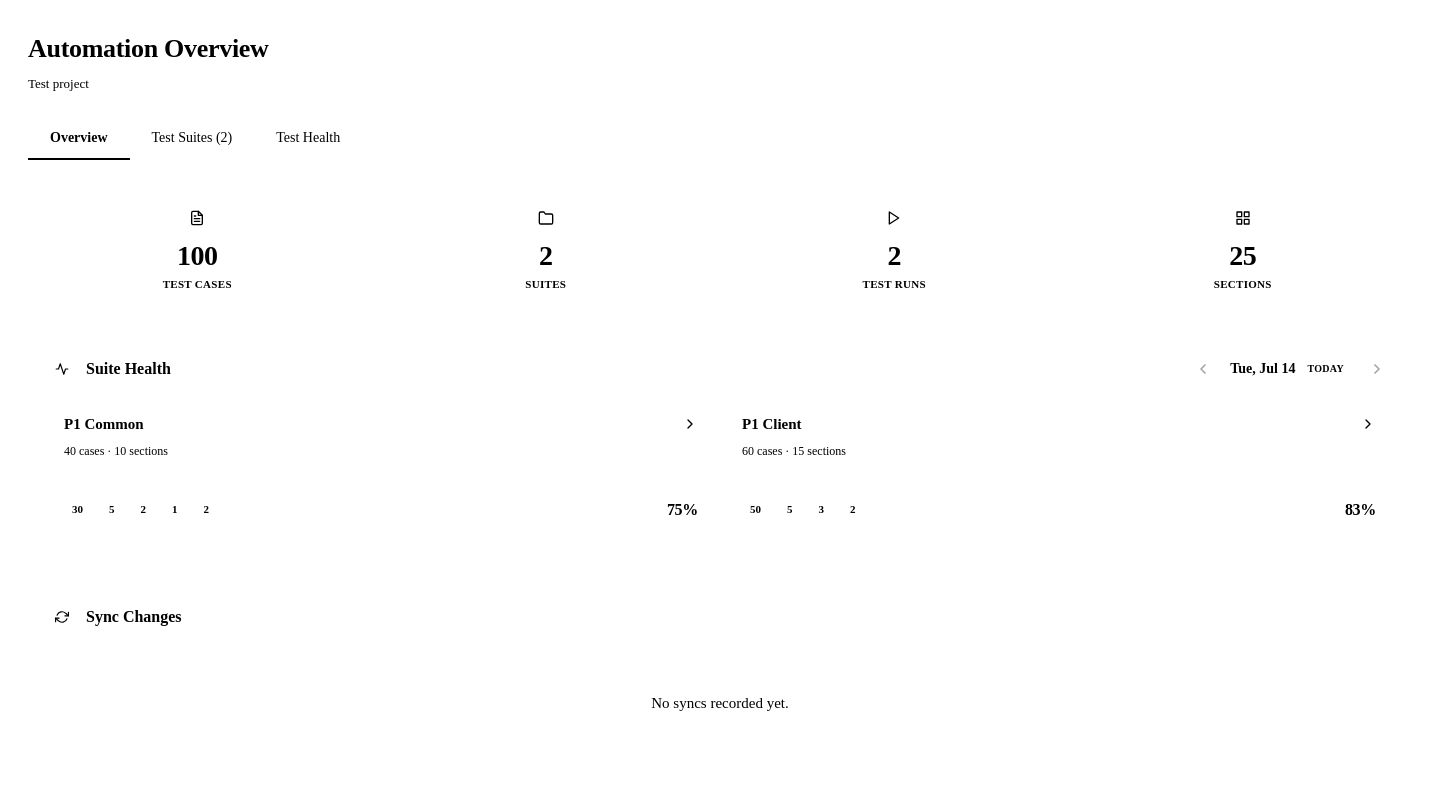
Test: ProjectDetailPage › Suites tab › shows section and case counts per suite
expect the text "Test project" is shown: met, box [28,76,89,91]
Click the tab "Test Suites (2)".
click(192, 139)  # box [130,118,254,160]
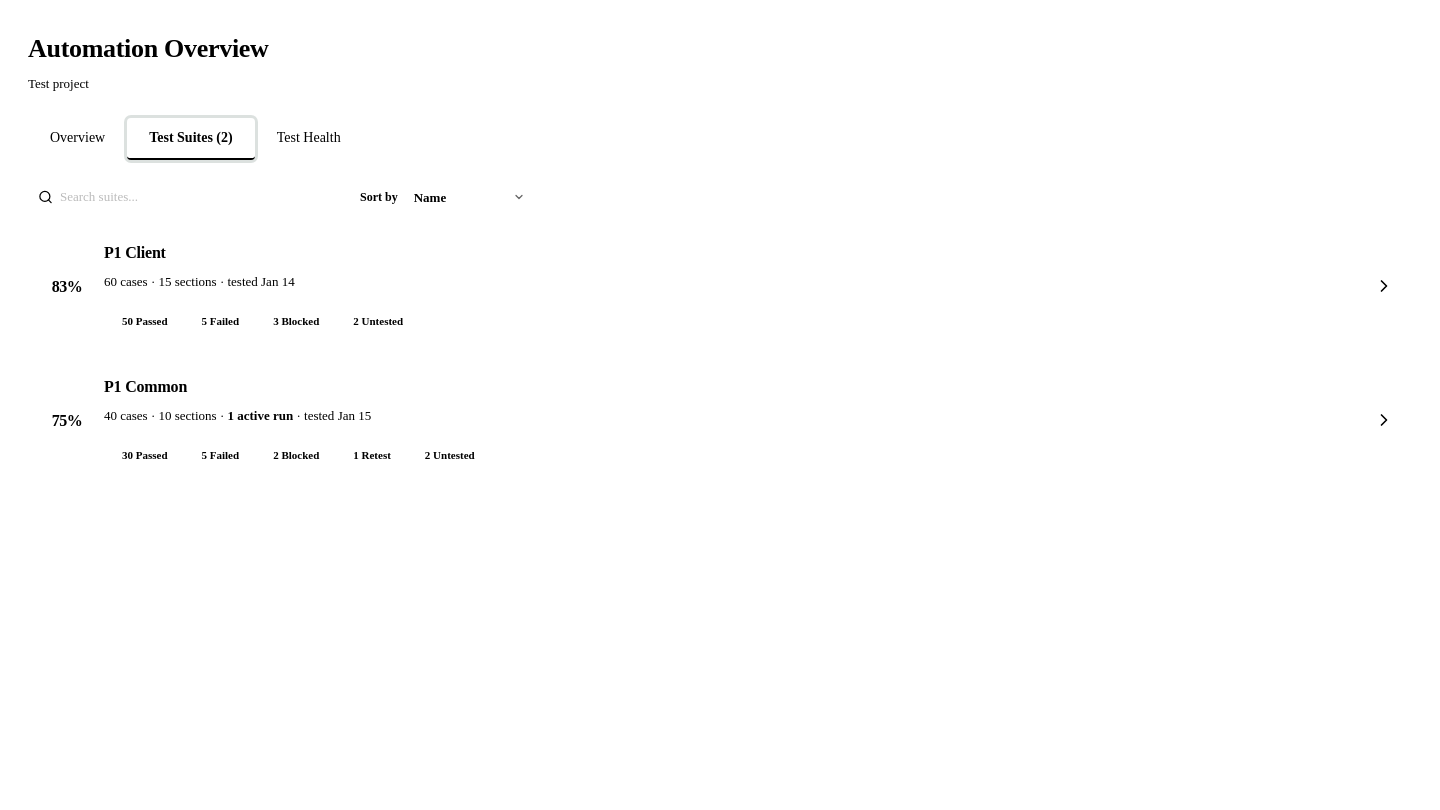
expect the text "40 cases · 10 sections · 1 active run · tested Jan 15" is shown: met, box [104,408,371,423]
expect the text "60 cases · 15 sections · tested Jan 14" is shown: met, box [104,274,295,289]
